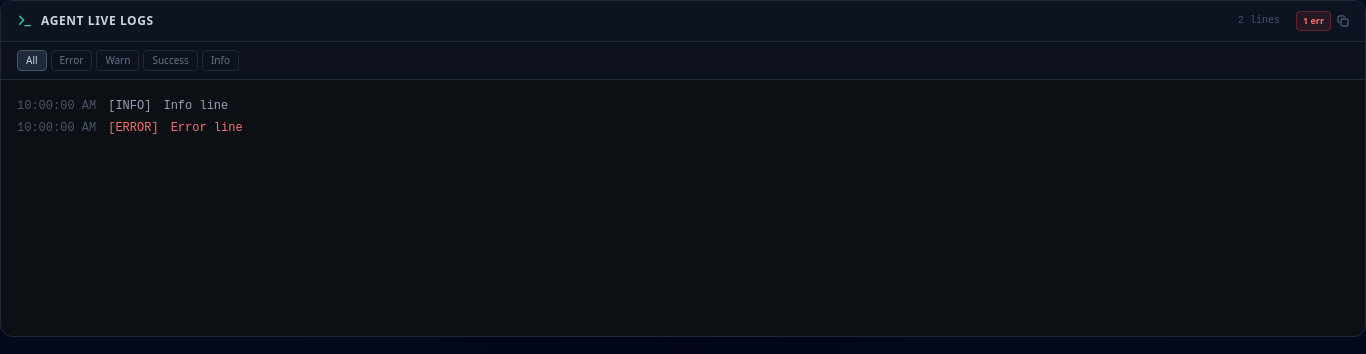
AgentLogsPanel — level filter › filters to info logs when info pill clicked
Click the button "info" at (220, 60), box [202,50,239,70]
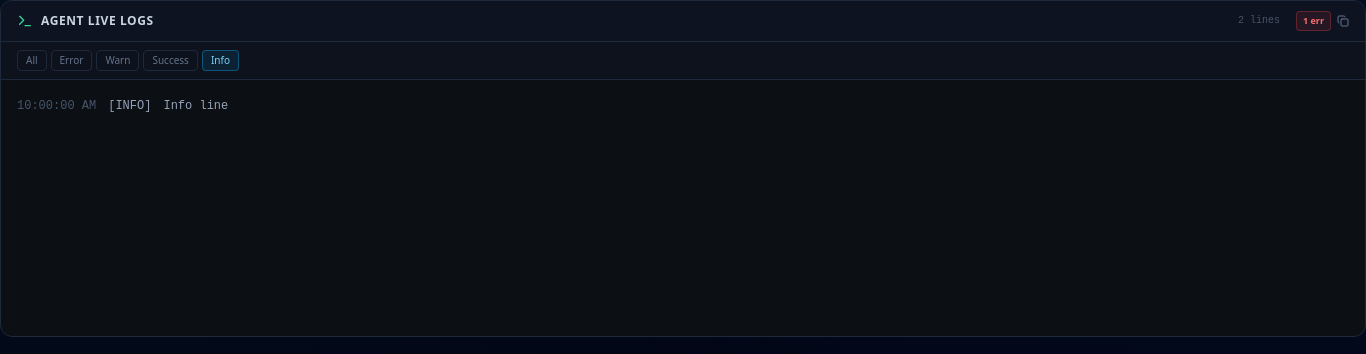
Expected: the text "Info line" is shown, [163,96,228,116]
Now the text "Error line" is gone
